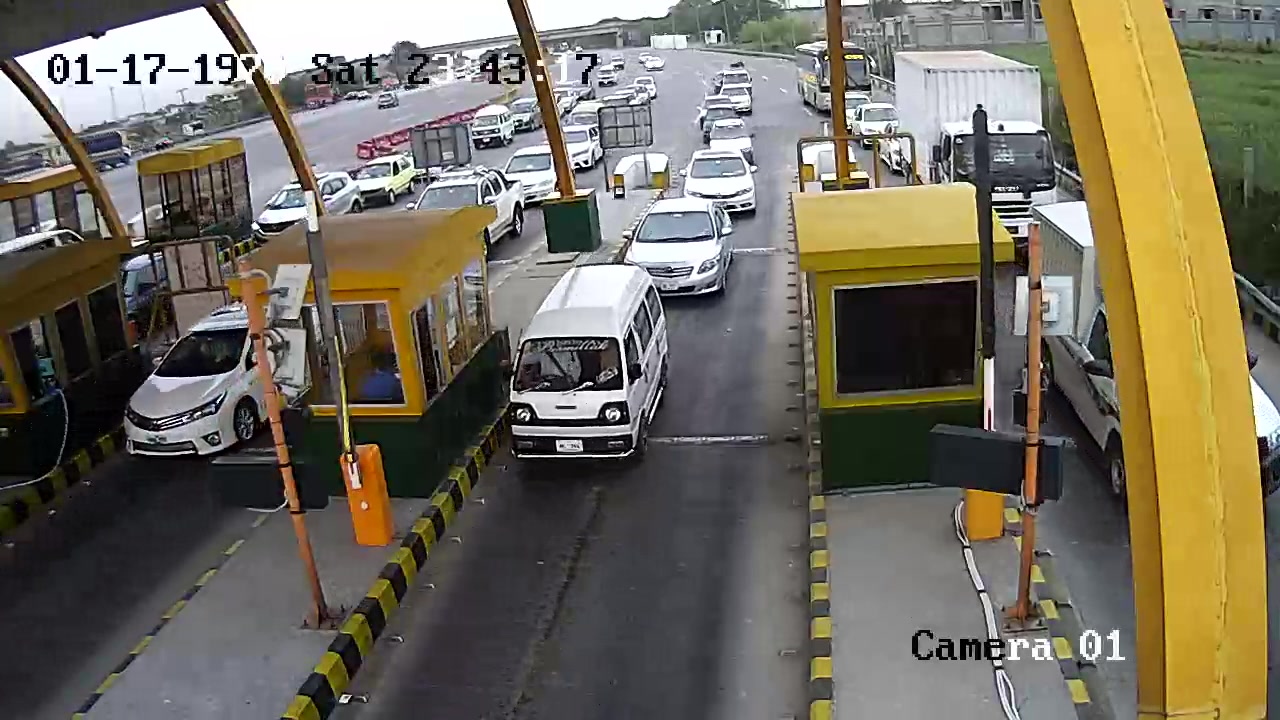F1: (508, 257, 673, 475)
